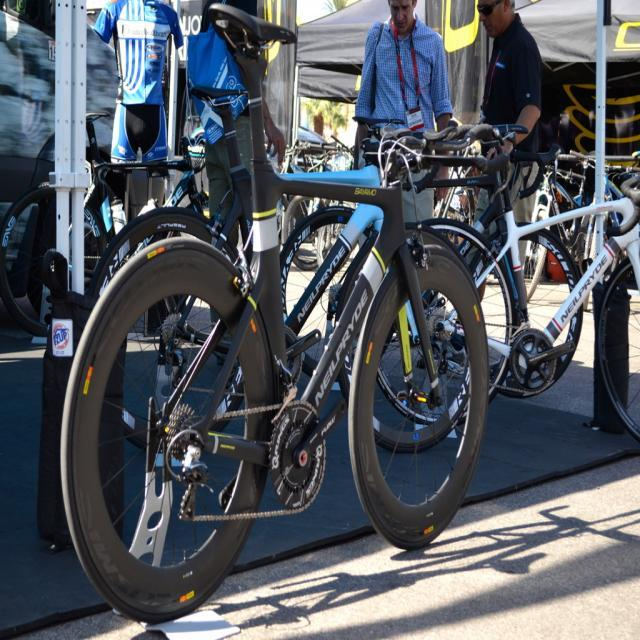car: (61, 3, 490, 552), (0, 109, 639, 454)
